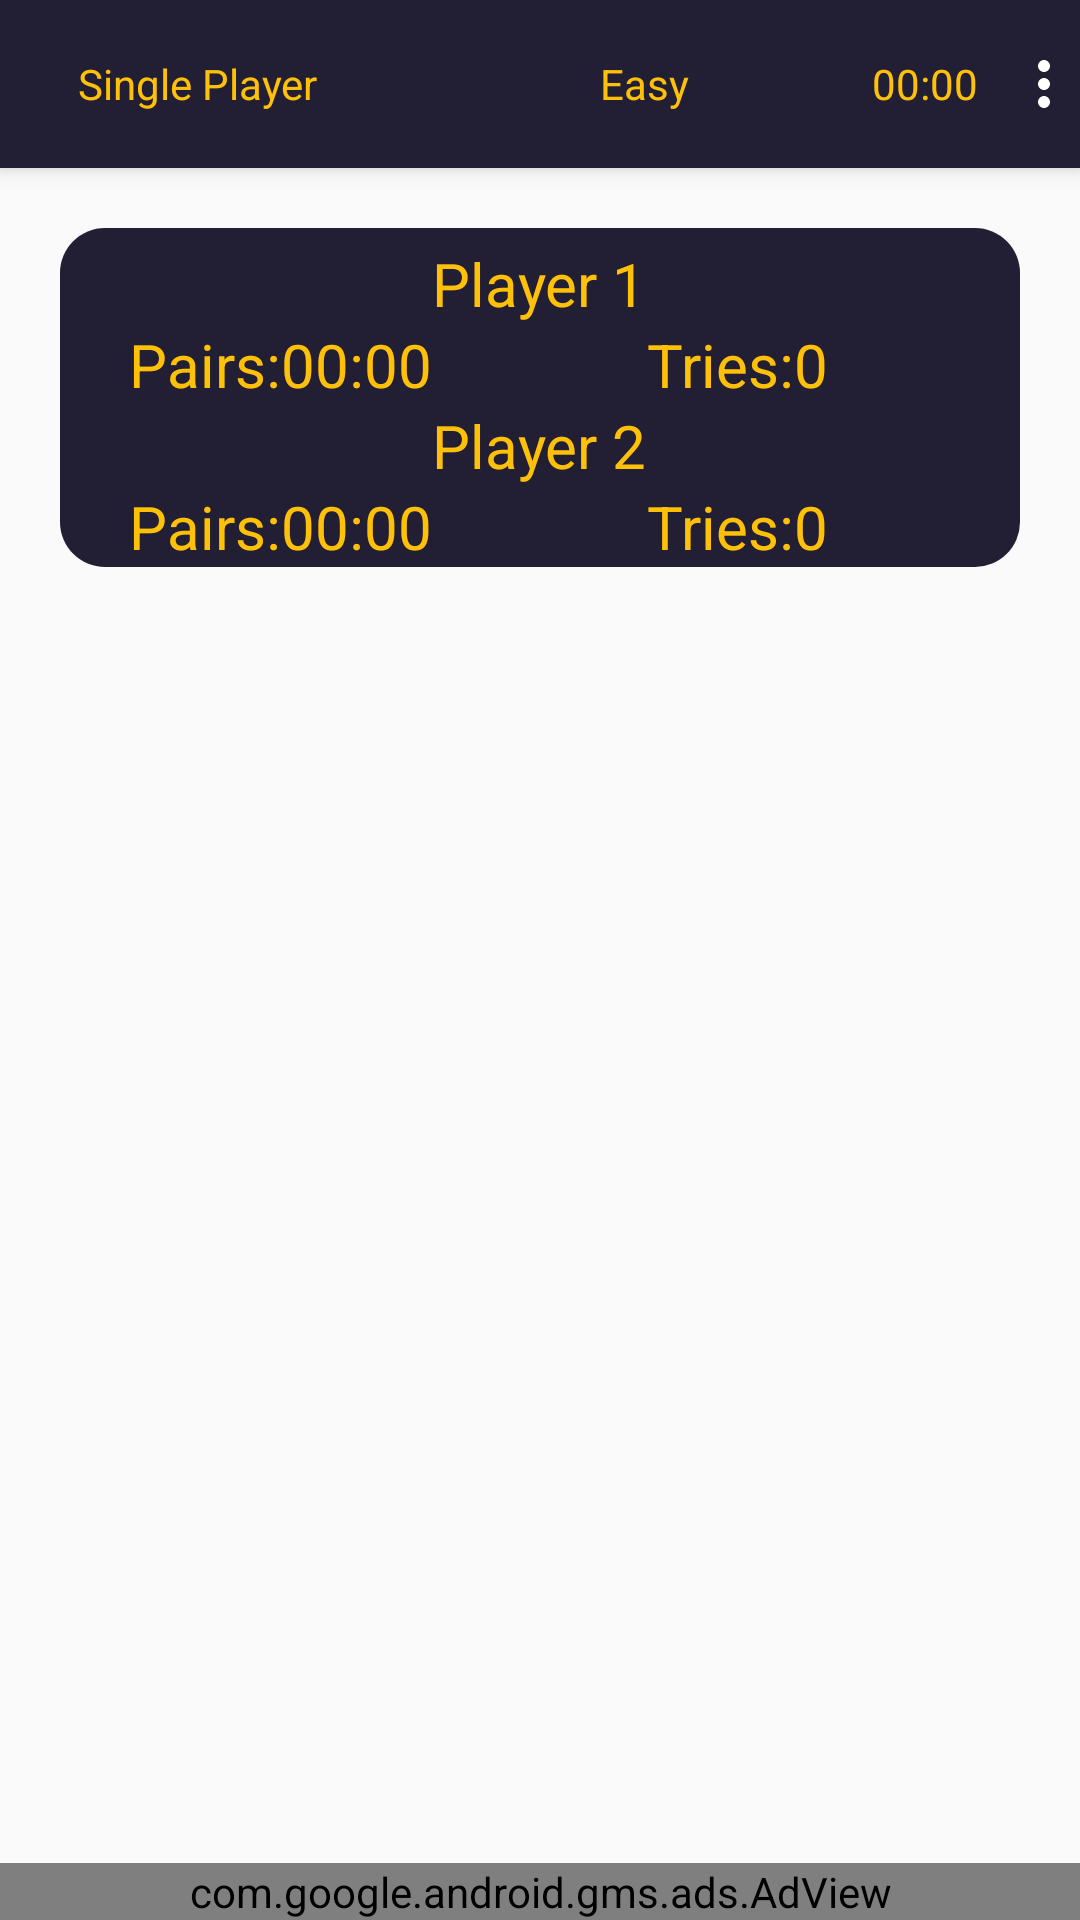

Where to tap for icons on this 1080px×1920px app screen, as point (x, y):
more: point (1044, 84)
